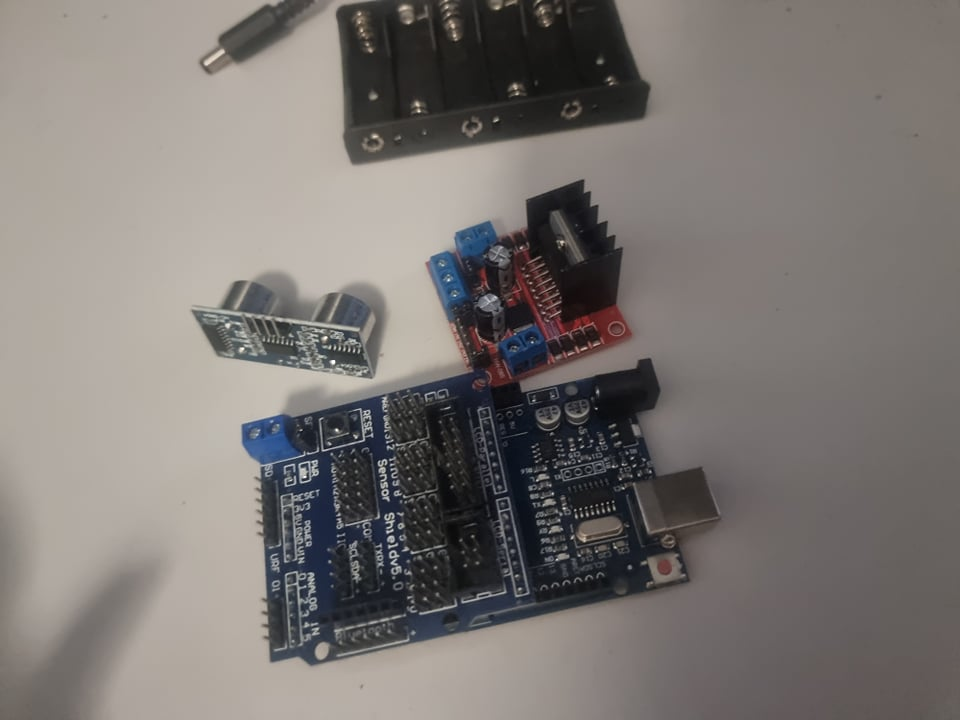5V EXPANSION: (228, 369, 522, 653)
BATTERY BOX: (333, 4, 651, 165)
MOTOR: (434, 180, 656, 387)
SENSOR: (186, 267, 384, 387)
UNO R3: (533, 359, 748, 600)
